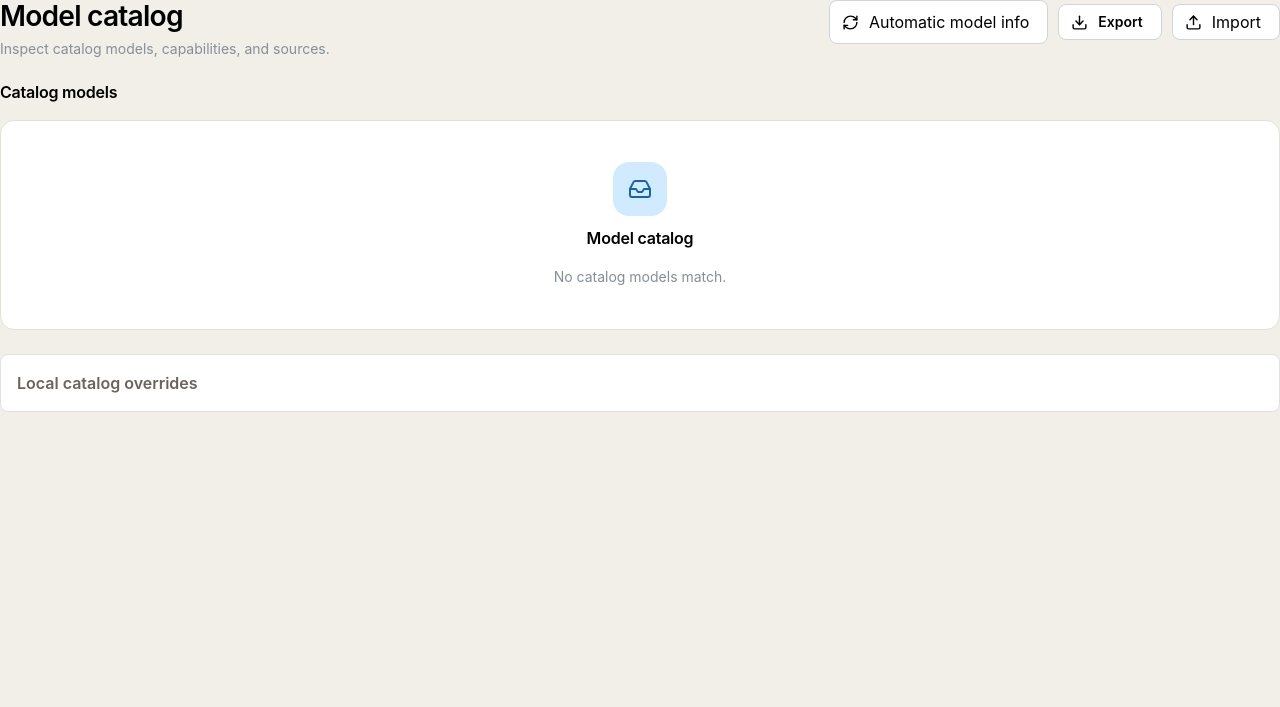
Test: expands catalog import below the page header and lets the operator cancel
Click the button "Import": (1226, 22) [1172, 4, 1279, 40]
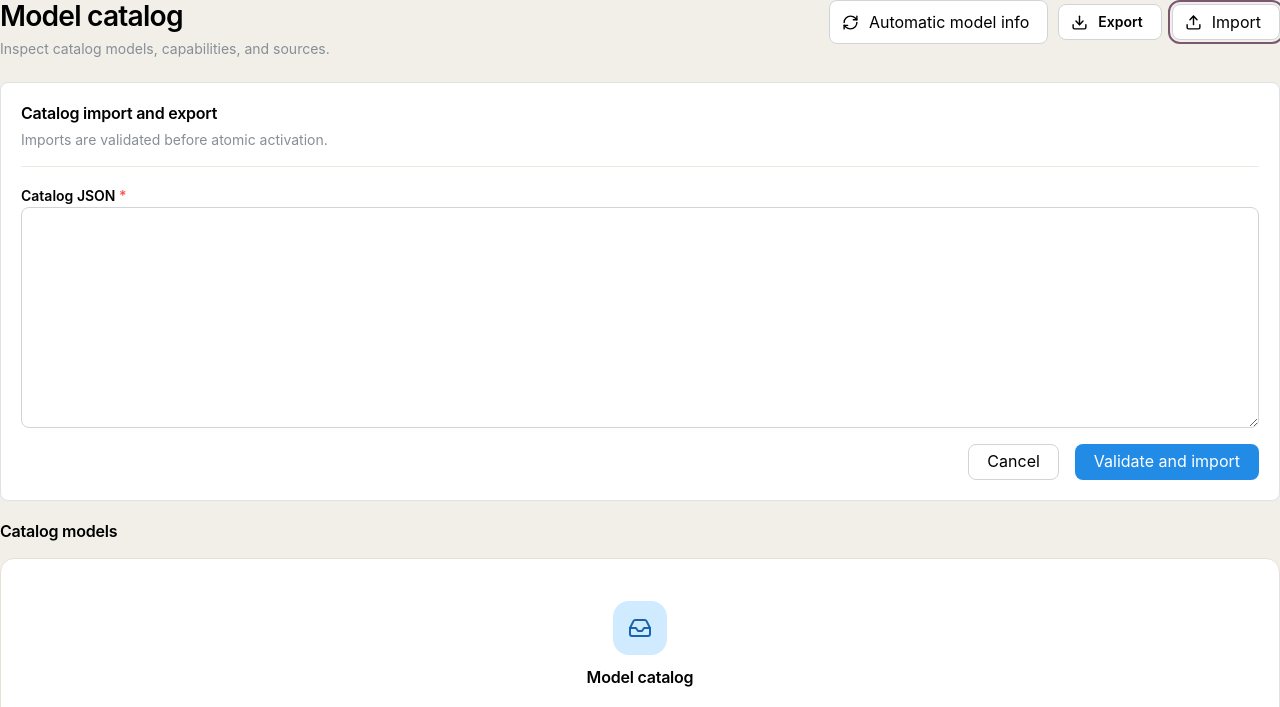
Click the button "Cancel": (1014, 462) [968, 444, 1059, 480]
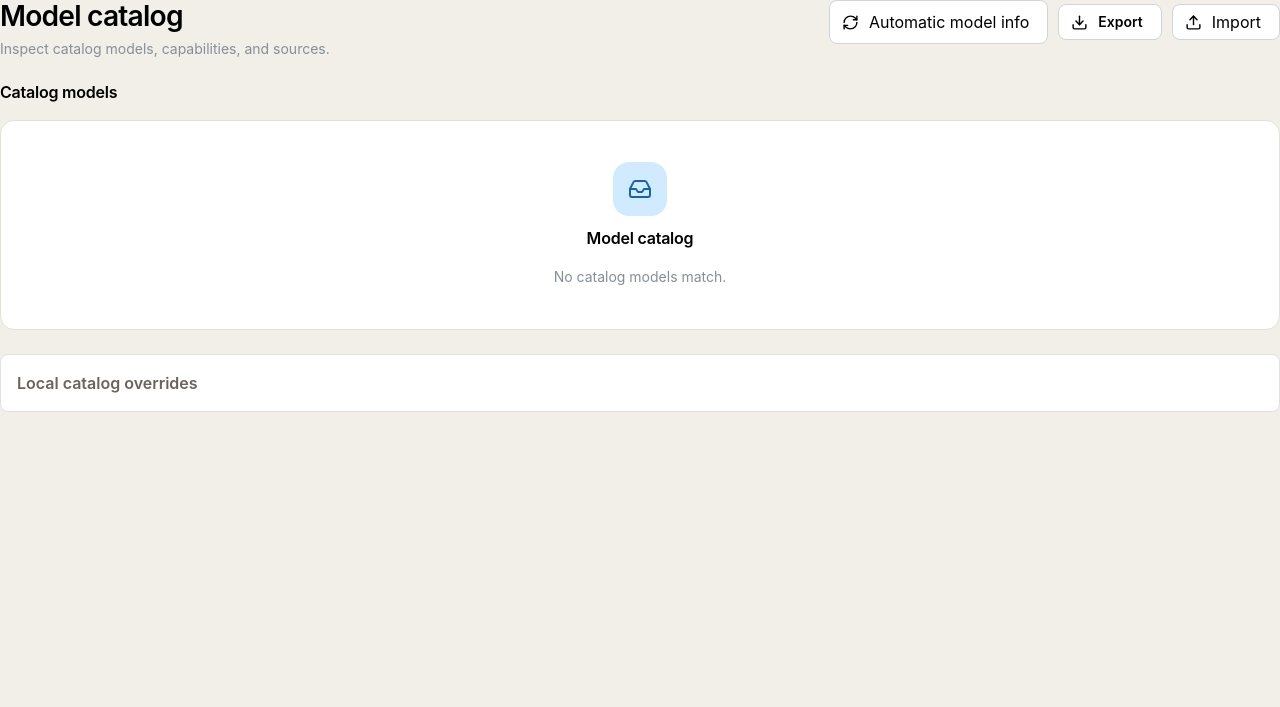
Now the label "Catalog JSON" is gone
